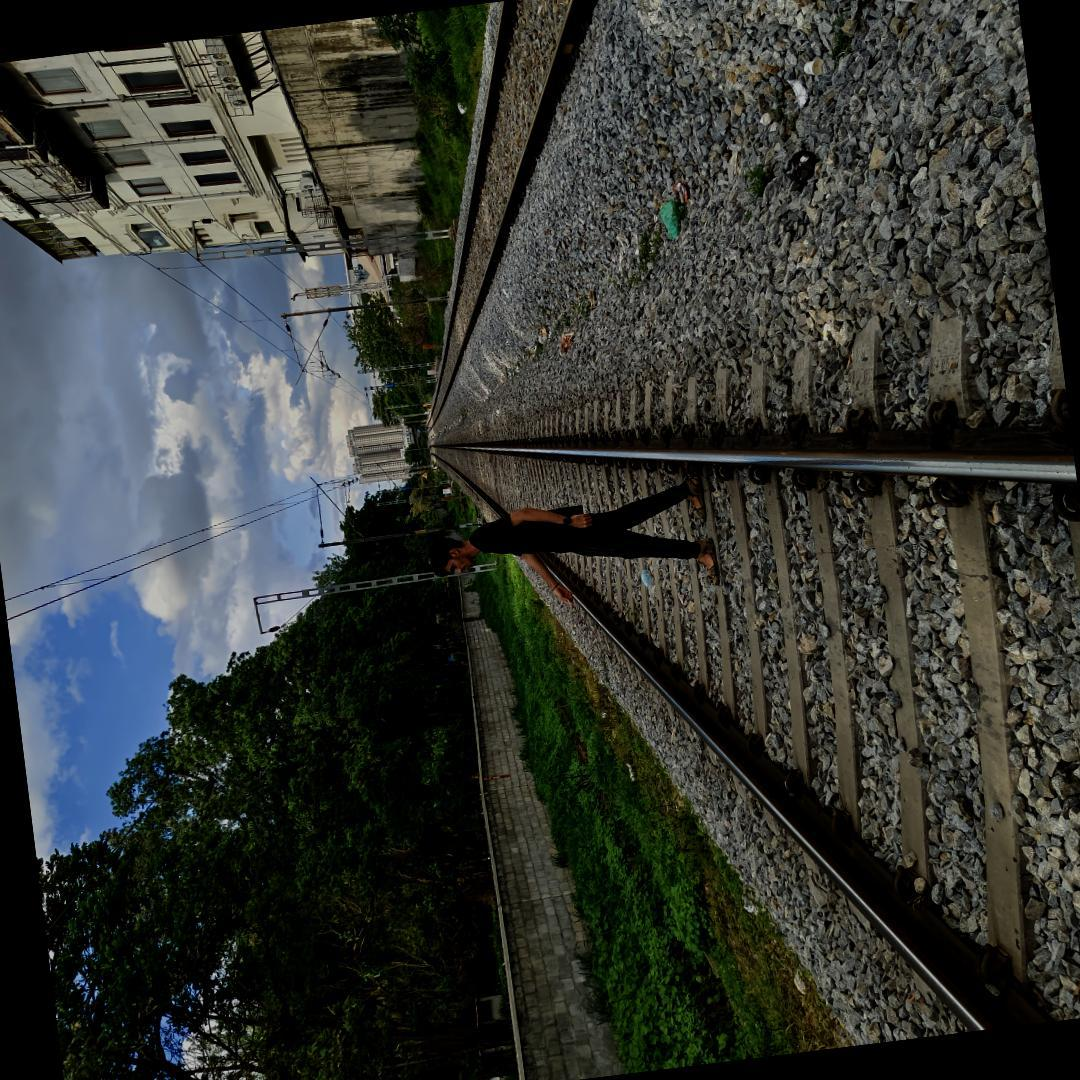standing: (415, 467, 725, 606)
